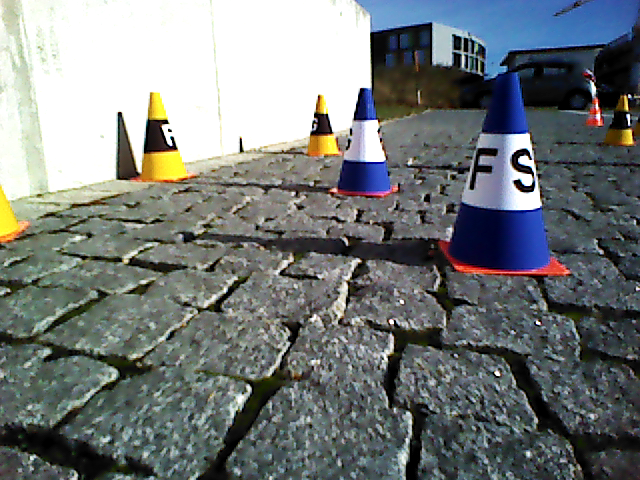bluecone: (453, 74, 549, 266), (337, 88, 387, 192)
orangeconesmall: (585, 98, 605, 126)
yellowcone: (140, 93, 186, 179), (308, 96, 338, 154), (607, 96, 633, 145)
